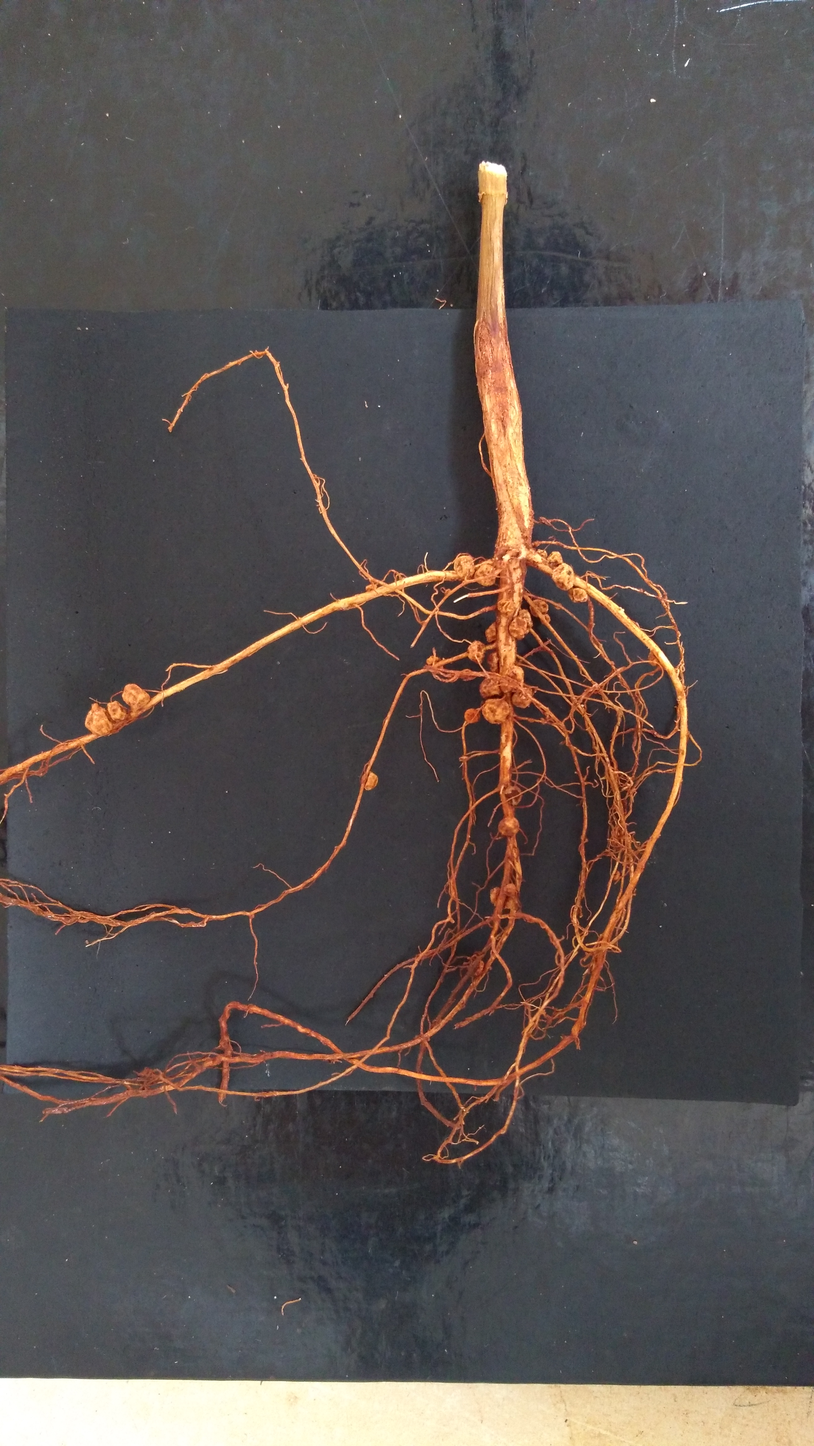nodule: (85, 703, 114, 735), (122, 684, 150, 712), (482, 699, 510, 723), (552, 563, 574, 590), (479, 676, 503, 698), (474, 563, 496, 586), (505, 666, 524, 692), (508, 616, 527, 640), (107, 701, 129, 721), (454, 556, 473, 579), (511, 687, 532, 707), (504, 883, 519, 910), (498, 817, 519, 835), (518, 609, 533, 634), (467, 641, 484, 663), (360, 771, 378, 791), (486, 650, 500, 675), (529, 599, 548, 617), (504, 786, 522, 805), (499, 669, 512, 693), (426, 655, 443, 673), (568, 588, 588, 603), (468, 960, 484, 977), (485, 621, 497, 642), (497, 599, 515, 613), (464, 709, 481, 723), (458, 669, 477, 681), (547, 552, 562, 566), (490, 887, 501, 906), (506, 844, 518, 861), (648, 649, 660, 666), (219, 1035, 230, 1050), (507, 548, 519, 558), (539, 517, 552, 526), (540, 614, 550, 625), (537, 549, 547, 559), (612, 870, 620, 881), (497, 560, 506, 568), (365, 584, 376, 590), (532, 540, 541, 547), (540, 717, 547, 725), (459, 756, 468, 762), (554, 602, 561, 609), (444, 589, 451, 595), (528, 718, 534, 723), (640, 588, 644, 593), (581, 704, 584, 707)
